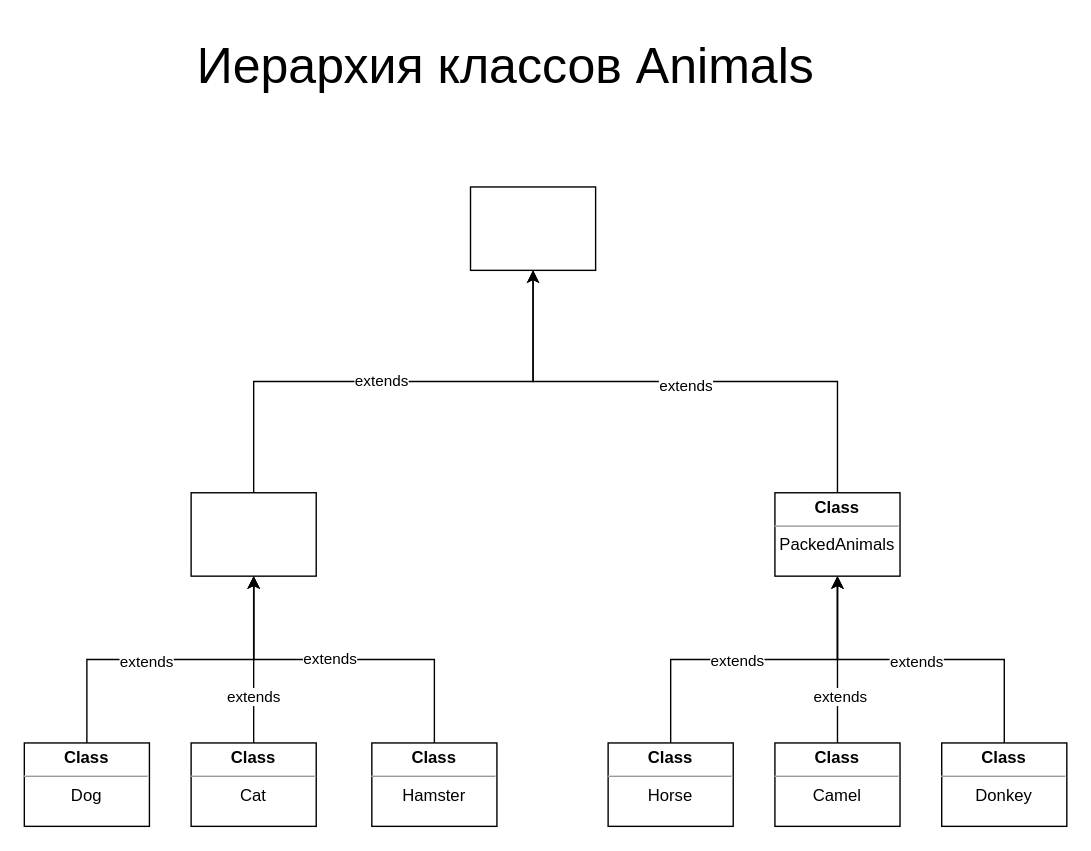
The diagram is 1091 pixels wide and 851 high, and some of its shapes have lost their labels. Here are the shapes that lost their labels. From the top down, the centre of each, then its label:
At [532,228]: "Class Animals".
At [253,533]: "Class Pets".
